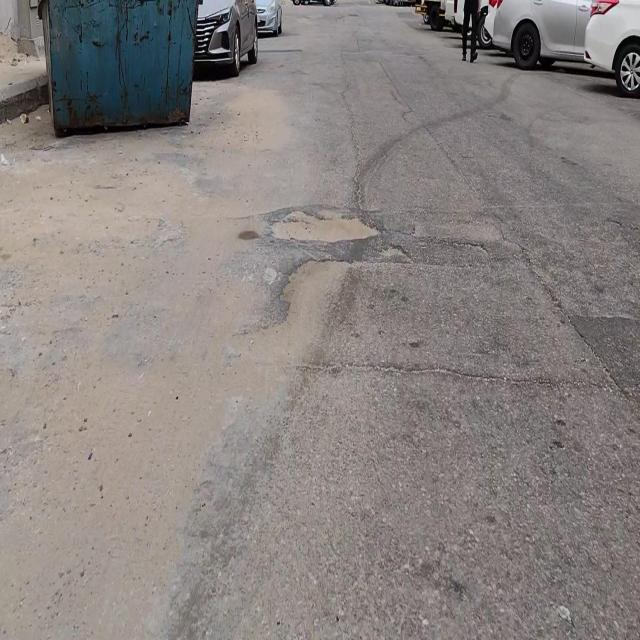Pothole: (270, 201, 382, 245)
